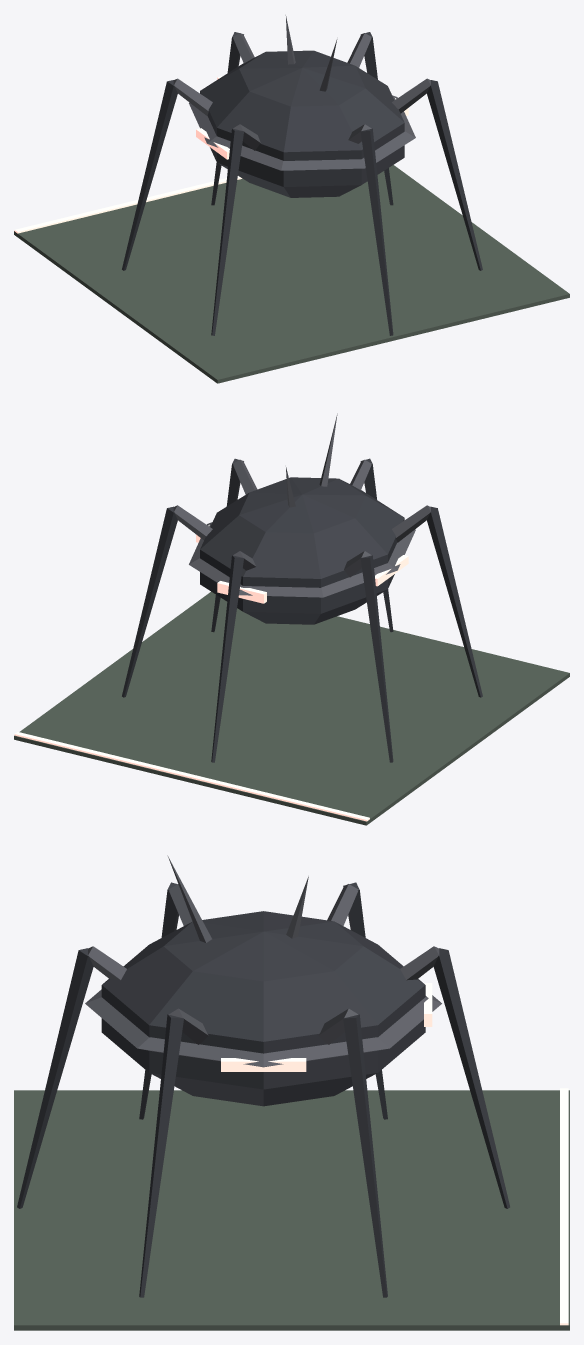
File: zone_low_2.glb
3 views of the same model, one above another, from view 1: azimuth 30°, elevation 25°; view 2: azimuth 150°, elevation 25°; view 3: azimuth 270°, elevation 25° (orthographic). The views are drawn at different scales.
Parts seen in each view (by area): view 1: zone_low_2, detail; view 2: zone_low_2, detail; view 3: zone_low_2, detail.
Part boxes in pixels (bbox=[...]): zone_low_2: bbox=[14, 32, 569, 383]; detail: bbox=[14, 15, 408, 233]; zone_low_2: bbox=[14, 458, 569, 825]; detail: bbox=[14, 413, 408, 821]; zone_low_2: bbox=[14, 882, 569, 1330]; detail: bbox=[167, 855, 568, 1325].
Size of the model in its own units: 19.6 by 13.95 by 19.6.
